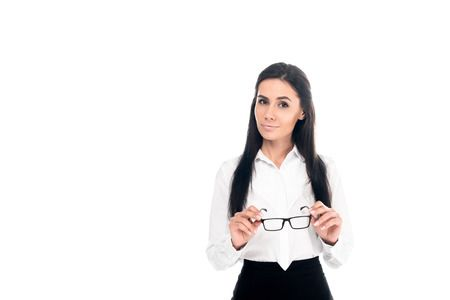F_shirt: (206, 148, 352, 270)
